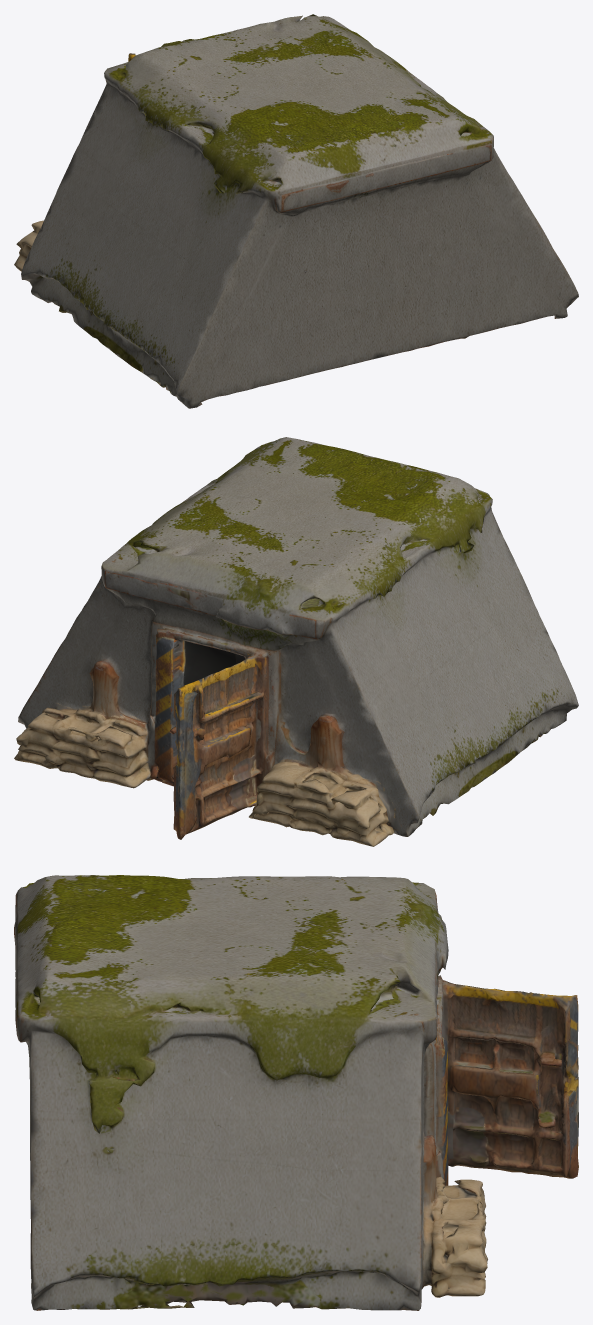
The model's file is City_Shelter.fbx.
The picture shows the model from 3 angles, top to bottom: view 1: azimuth 30°, elevation 25°; view 2: azimuth 150°, elevation 25°; view 3: azimuth 270°, elevation 25°; orthographic projection. The views are drawn at different scales.
Parts seen in each view (by area): view 1: City_Shelter; view 2: City_Shelter; view 3: City_Shelter.
Part boxes in pixels (bbox=[...]): City_Shelter: bbox=[14, 14, 578, 408]; City_Shelter: bbox=[14, 437, 578, 846]; City_Shelter: bbox=[14, 875, 578, 1310].
Size of the model in its own units: 6 by 3.21 by 5.97.
Materials: 1 (1 with a texture image).
